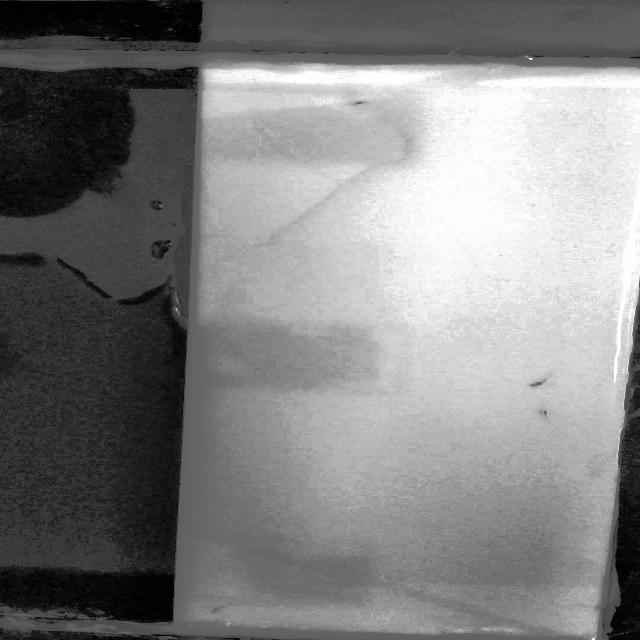shrimp: (343, 93, 386, 108), (529, 372, 555, 391), (532, 404, 556, 422), (206, 601, 233, 615)
